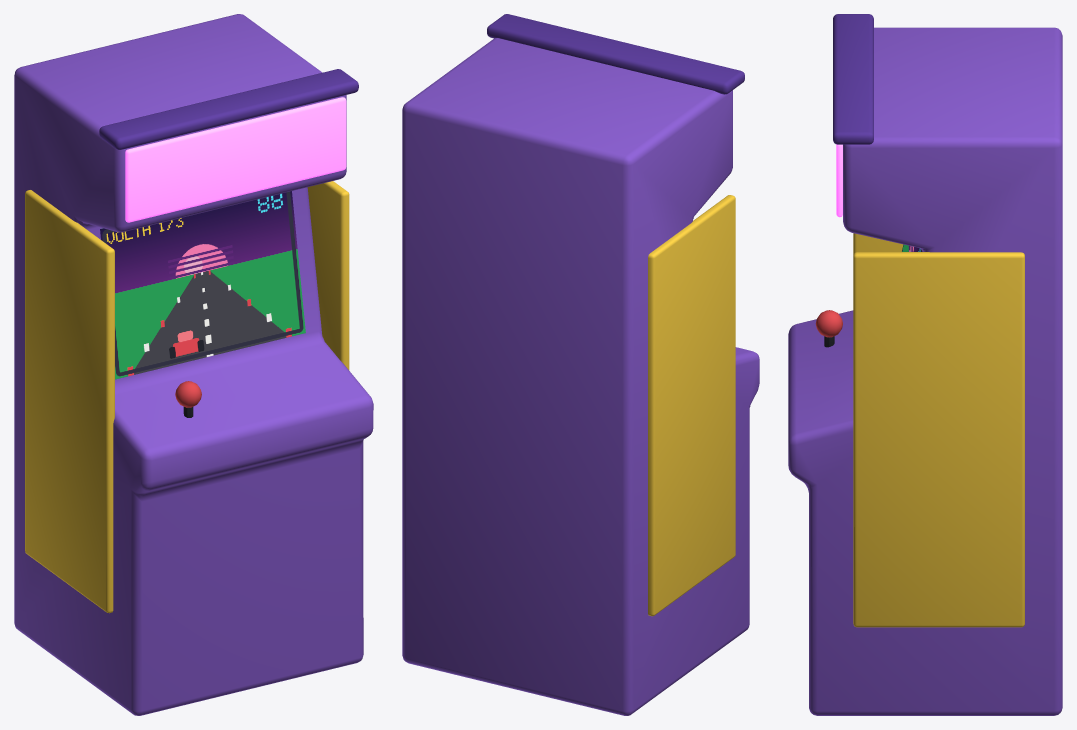
File: fliperama_corrida.glb
3 views of the same model, side by side, from view 1: azimuth 30°, elevation 25°; view 2: azimuth 150°, elevation 25°; view 3: azimuth 270°, elevation 25° (orthographic). The views are drawn at different scales.
Parts seen in each view (by area): view 1: fliperama_corrida, tela_troca; view 2: fliperama_corrida; view 3: fliperama_corrida.
Part boxes in pixels (<box>): fliperama_corrida: <box>14,14,373,715</box>; tela_troca: <box>100,191,305,379</box>; fliperama_corrida: <box>402,14,759,715</box>; fliperama_corrida: <box>788,14,1062,715</box>.
Bounding box in the file's own units: 0.84 × 1.89 × 0.8.
Materials: 3 (2 with a texture image).
